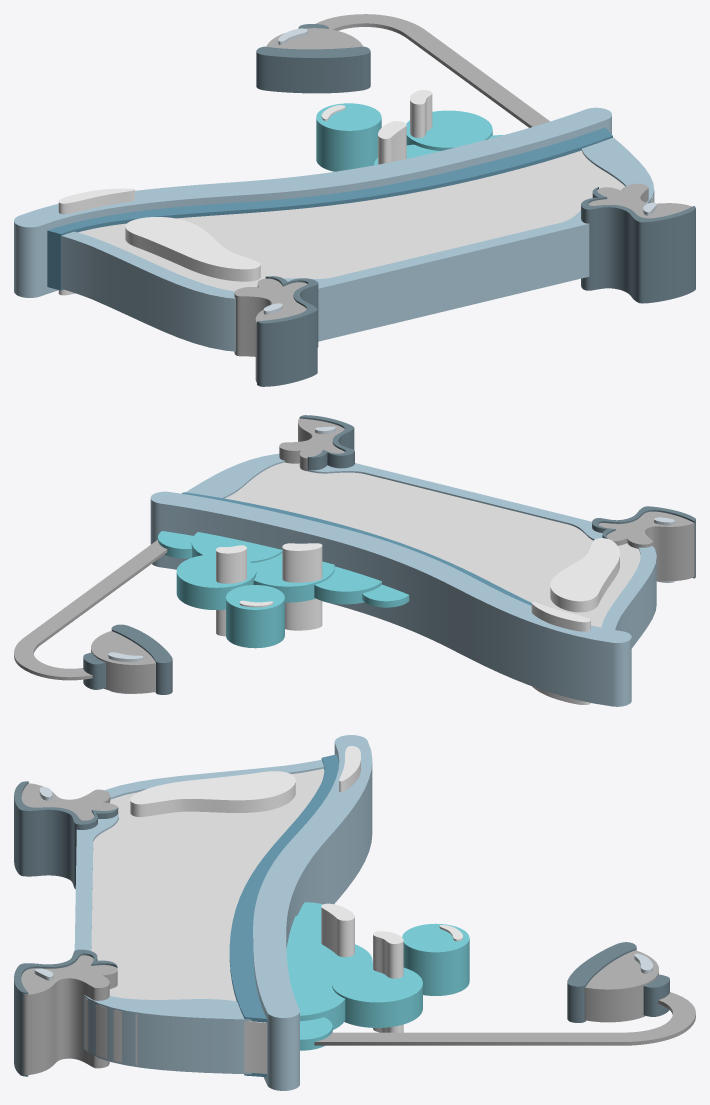
File: emoji_u1f6c1.glb
3 renders of one model, top to bottom at view 1: azimuth 30°, elevation 25°; view 2: azimuth 150°, elevation 25°; view 3: azimuth 270°, elevation 25°, orthographic. The views are drawn at different scales.
Visible parts, largest first — view 1: emoji_u1f6c1; view 2: emoji_u1f6c1; view 3: emoji_u1f6c1.
Boxes of the visible parts, <box> form: emoji_u1f6c1: <box>14,14,695,386</box>; emoji_u1f6c1: <box>14,415,695,706</box>; emoji_u1f6c1: <box>14,735,695,1090</box>.
Size of the model in its own units: 0.0333 by 0.0052 by 0.0339.
